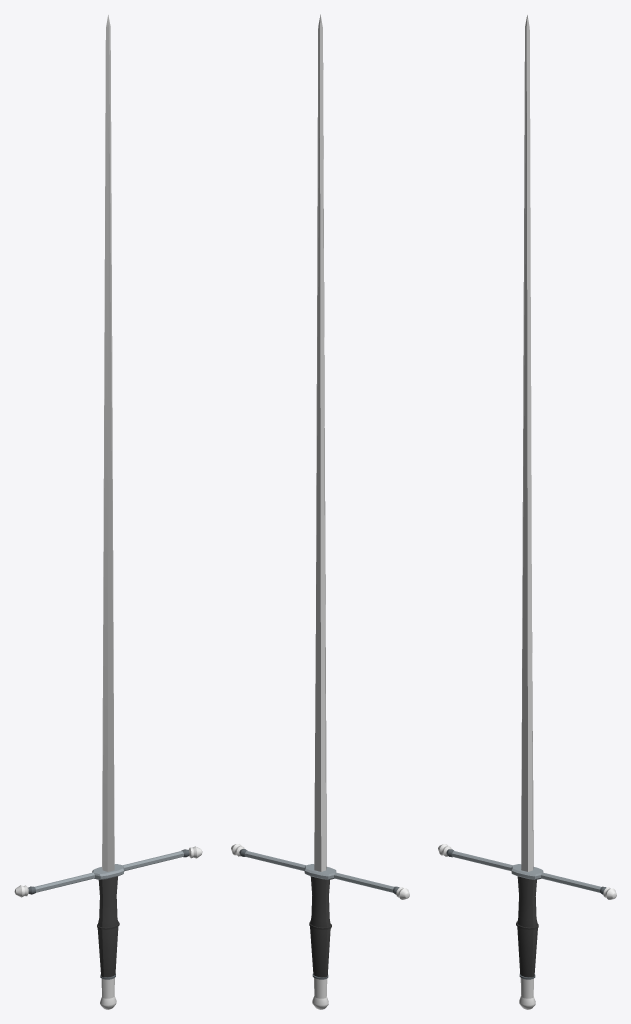
File: SM_Sword07_Estoc_3Silver.fbx
The picture shows the model from 3 angles, left to right: view 1: azimuth 30°, elevation 25°; view 2: azimuth 150°, elevation 25°; view 3: azimuth 330°, elevation 25°; orthographic projection.
Visible parts, largest first — view 1: Cube.452, Cylinder.652, Cube.453, Sphere.130; view 2: Cube.452, Cylinder.652, Cube.453, Sphere.130; view 3: Cube.452, Cylinder.652, Cube.453, Sphere.130.
Boxes of the visible parts, box(x1,y1,x2,y2) form: Cube.452: box(102, 15, 114, 871); Cylinder.652: box(97, 876, 118, 977); Cube.453: box(34, 851, 183, 892); Sphere.130: box(100, 974, 116, 1009); Cube.452: box(314, 14, 326, 871); Cylinder.652: box(310, 876, 330, 977); Cube.453: box(245, 851, 394, 892); Sphere.130: box(312, 974, 328, 1009); Cube.452: box(521, 15, 533, 871); Cylinder.652: box(517, 876, 537, 977); Cube.453: box(452, 851, 601, 892); Sphere.130: box(519, 974, 535, 1009).
Size of the model in its own units: 0.219 by 1.14 by 0.0204.
